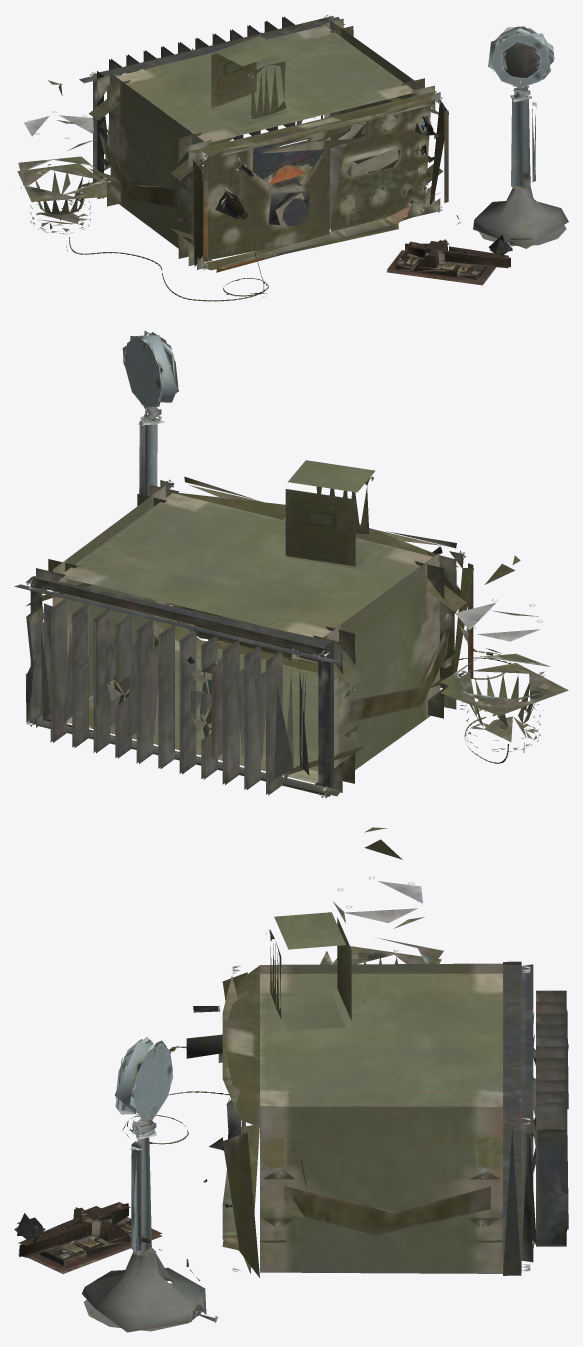
File: vintage_radio_transceiver.glb
3 renders of one model, top to bottom at view 1: azimuth 30°, elevation 25°; view 2: azimuth 150°, elevation 25°; view 3: azimuth 270°, elevation 25°, orthographic. The views are drawn at different scales.
Parts seen in each view (by area): view 1: vintage_radio_transceiver; view 2: vintage_radio_transceiver; view 3: vintage_radio_transceiver.
Part boxes in pixels (x1,y1,x2,y2): vintage_radio_transceiver: [14, 14, 568, 301]; vintage_radio_transceiver: [14, 330, 568, 798]; vintage_radio_transceiver: [14, 827, 568, 1332].
Size of the model in its own units: 0.52 by 0.2212 by 0.4145.
2 materials, 2 textured.
